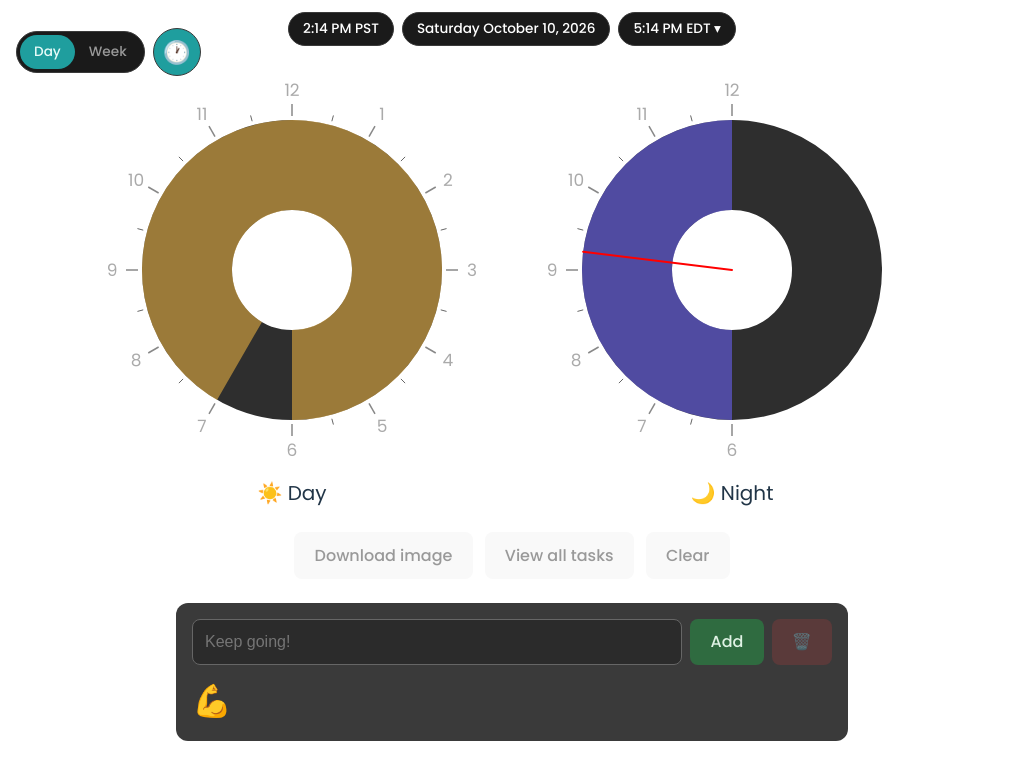
Test case: DayPlanner › adding a todo shows it in the always-visible todo list
In the field with placeholder "Keep going!": (437, 642) [192,619,682,665], type "Buy groceries"
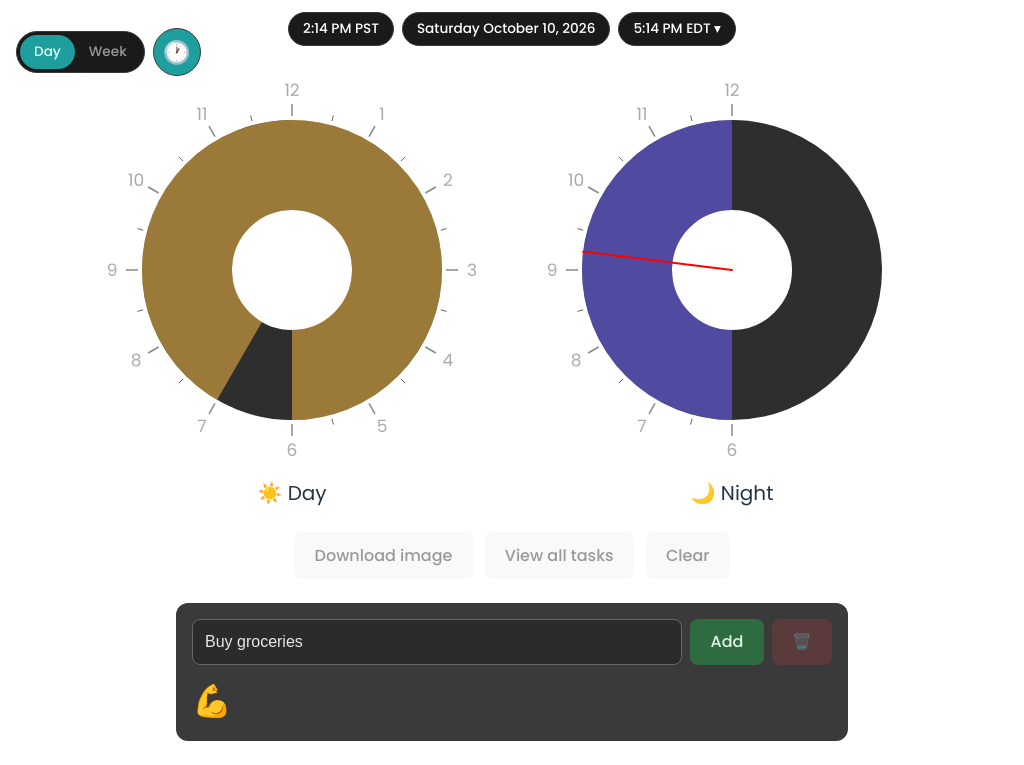
Click the button "Add": (727, 642) [690,619,764,665]
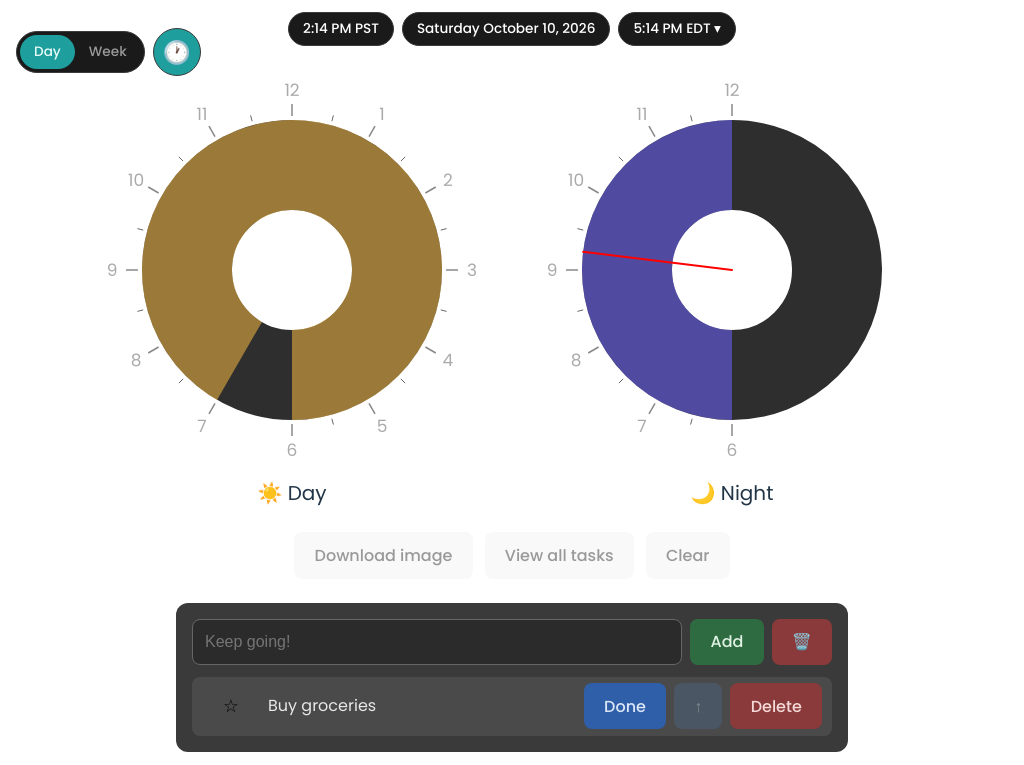
expect the text "Buy groceries" is shown: met, box [268,694,376,717]
